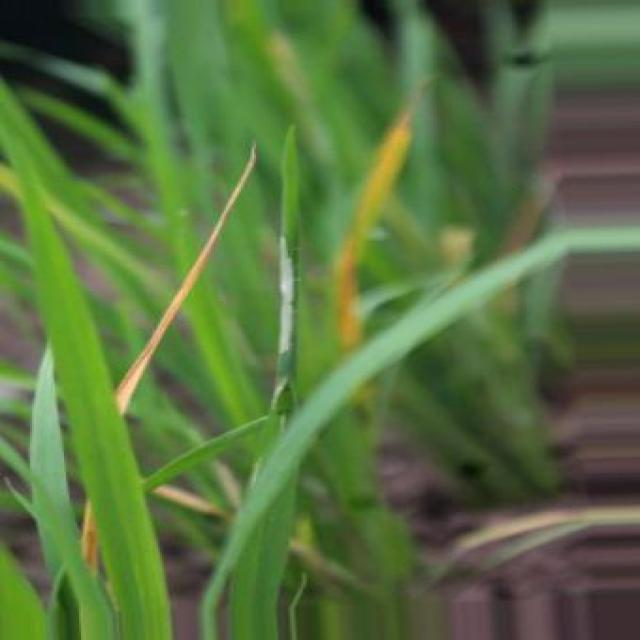Rice Tungro: (116, 146, 255, 413), (334, 110, 411, 350)
